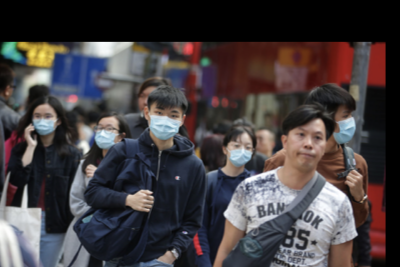with_mask: (149, 105, 183, 141), (335, 108, 357, 146), (30, 110, 58, 137), (228, 137, 252, 168), (94, 121, 119, 150)
without_mask: (288, 125, 324, 171)
